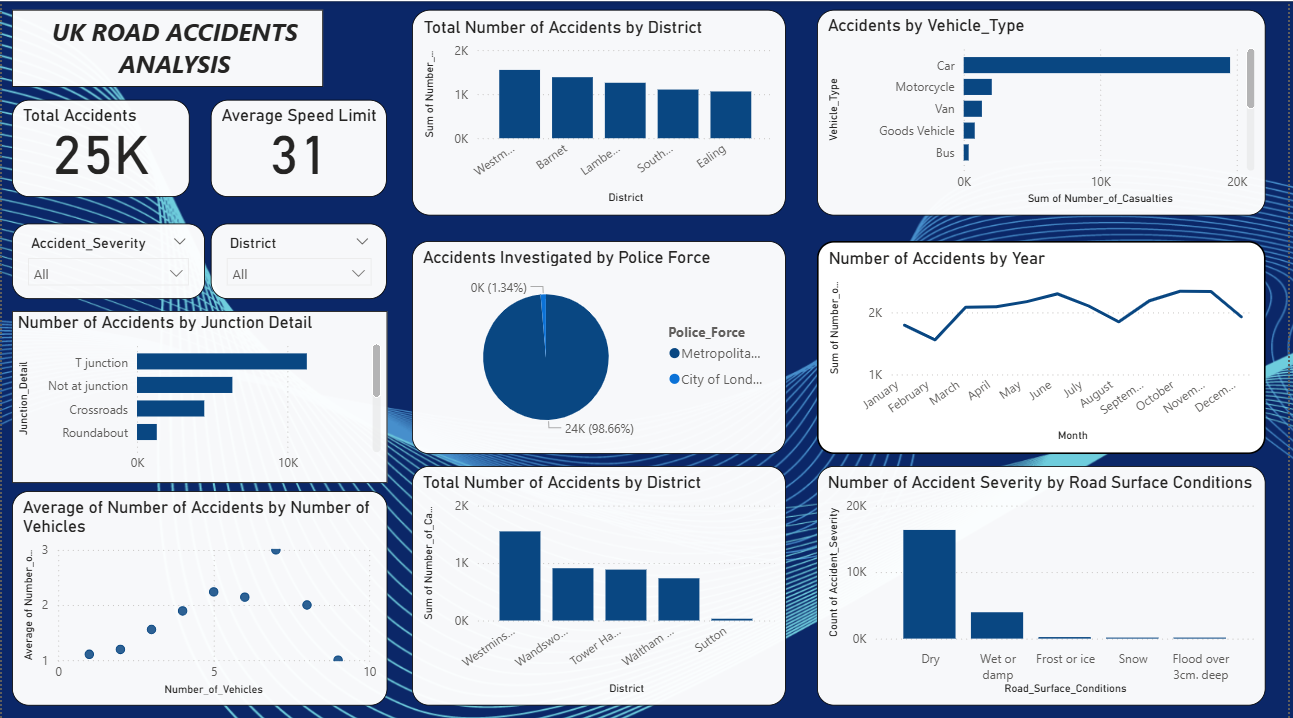

The dashboard page shown, as its layout file describes it:
{"tool":"powerbi","page":{"name":"UK ROAD ACCIDENT ANALYSIS","canvas":[1280,720],"ordinal":2},"visuals":[{"type":"textbox","box":[10.5,8.1,309.3,76.7],"z":0},{"type":"card","title":"Average Speed Limit","fields":{"Values":["Avg(UK_Road_Accidents.Speed_limit)"]},"box":[207.7,98.3,175.4,97],"z":1000},{"type":"pieChart","title":"Accidents Investigated by Police Force","fields":{"Category":["UK_Road_Accidents.Police_Force"],"Y":["Sum(UK_Road_Accidents.Number_of_Casualties)"]},"box":[408.1,238.4,372.1,211.6],"z":2000},{"type":"card","title":"Total Accidents","fields":{"Values":["Sum(UK_Road_Accidents.Number_of_Casualties)"]},"box":[10,98.3,176.6,97],"z":3000},{"type":"columnChart","title":"Total Number of Accidents by District","fields":{"Category":["UK_Road_Accidents.District"],"Y":["Sum(UK_Road_Accidents.Number_of_Casualties)"]},"box":[408.1,8.1,372.1,204.7],"z":4000},{"type":"barChart","title":"Accidents by Vehicle_Type","fields":{"Category":["UK_Road_Accidents.Vehicle_Type"],"Y":["Sum(UK_Road_Accidents.Number_of_Casualties)"]},"box":[810.5,8.1,446.5,204.7],"z":5000},{"type":"scatterChart","title":"Average of Number of Accidents by Number of Vehicles","fields":{"X":["UK_Road_Accidents.Number_of_Vehicles"],"Y":["Avg(UK_Road_Accidents.Number_of_Casualties)"]},"box":[10.5,487.2,373.3,214],"z":6000},{"type":"lineChart","title":" Number of Accidents by Year","fields":{"Y":["Sum(UK_Road_Accidents.Number_of_Casualties)"],"Category":["UK_Road_Accidents.Accident Date.Variation.Date Hierarchy.Month"]},"box":[810.5,238.4,446.5,211.6],"z":7000},{"type":"barChart","title":"Number of Accidents by Junction Detail","fields":{"Category":["UK_Road_Accidents.Junction_Detail"],"Y":["Sum(UK_Road_Accidents.Number_of_Casualties)"]},"box":[10.5,308.1,373.3,170.9],"z":8000},{"type":"columnChart","title":"Total Number of Accidents by District","fields":{"Category":["UK_Road_Accidents.District"],"Y":["Sum(UK_Road_Accidents.Number_of_Casualties)"]},"box":[408.1,462.8,372.1,238.4],"z":9000},{"type":"clusteredColumnChart","title":"Number of Accident Severity by Road Surface Conditions","fields":{"Category":["UK_Road_Accidents.Road_Surface_Conditions"],"Y":["CountNonNull(UK_Road_Accidents.Accident_Severity)"]},"box":[810.5,462.8,446.5,238.4],"z":10000},{"type":"slicer","fields":{"Values":["UK_Road_Accidents.Accident_Severity"]},"box":[10.5,220.9,191.9,75.6],"z":11000},{"type":"slicer","fields":{"Values":["UK_Road_Accidents.District"]},"box":[208.1,220.9,175.6,75.6],"z":12000}]}

Visuals, with their boxes in screenshot pixels (x1, y1, x2, y2), scaled from the page's 1280x720 canvas onto the 1293x718 screenshot:
textbox: (11, 8, 323, 85)
"Average Speed Limit" card: (210, 98, 387, 195)
"Accidents Investigated by Police Force" pieChart: (412, 238, 788, 449)
"Total Accidents" card: (10, 98, 188, 195)
"Total Number of Accidents by District" columnChart: (412, 8, 788, 212)
"Accidents by Vehicle_Type" barChart: (819, 8, 1270, 212)
"Average of Number of Accidents by Number of Vehicles" scatterChart: (11, 486, 388, 699)
" Number of Accidents by Year" lineChart: (819, 238, 1270, 449)
"Number of Accidents by Junction Detail" barChart: (11, 307, 388, 478)
"Total Number of Accidents by District" columnChart: (412, 462, 788, 699)
"Number of Accident Severity by Road Surface Conditions" clusteredColumnChart: (819, 462, 1270, 699)
slicer - UK_Road_Accidents.Accident_Severity: (11, 220, 204, 296)
slicer - UK_Road_Accidents.District: (210, 220, 388, 296)
